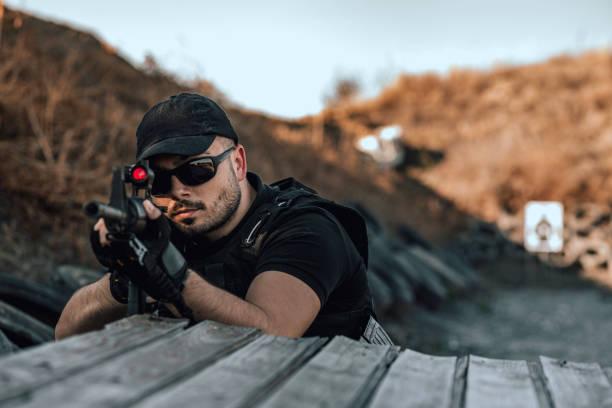gun: (84, 162, 151, 318)
